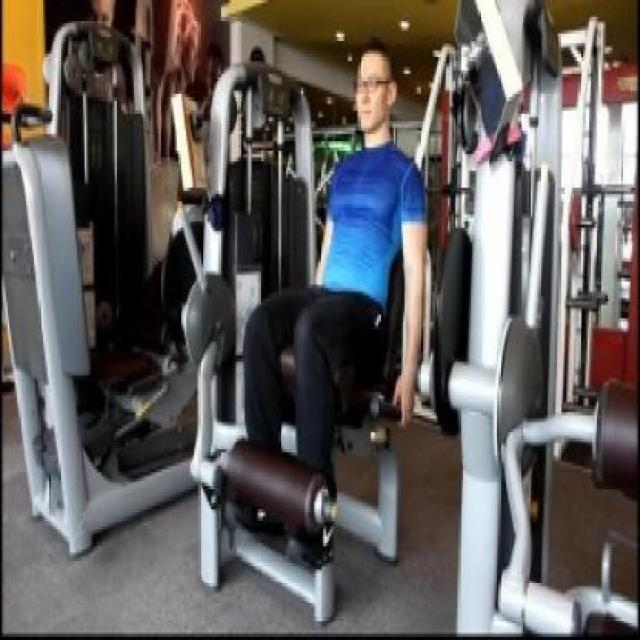leg extension: (158, 17, 480, 626)
